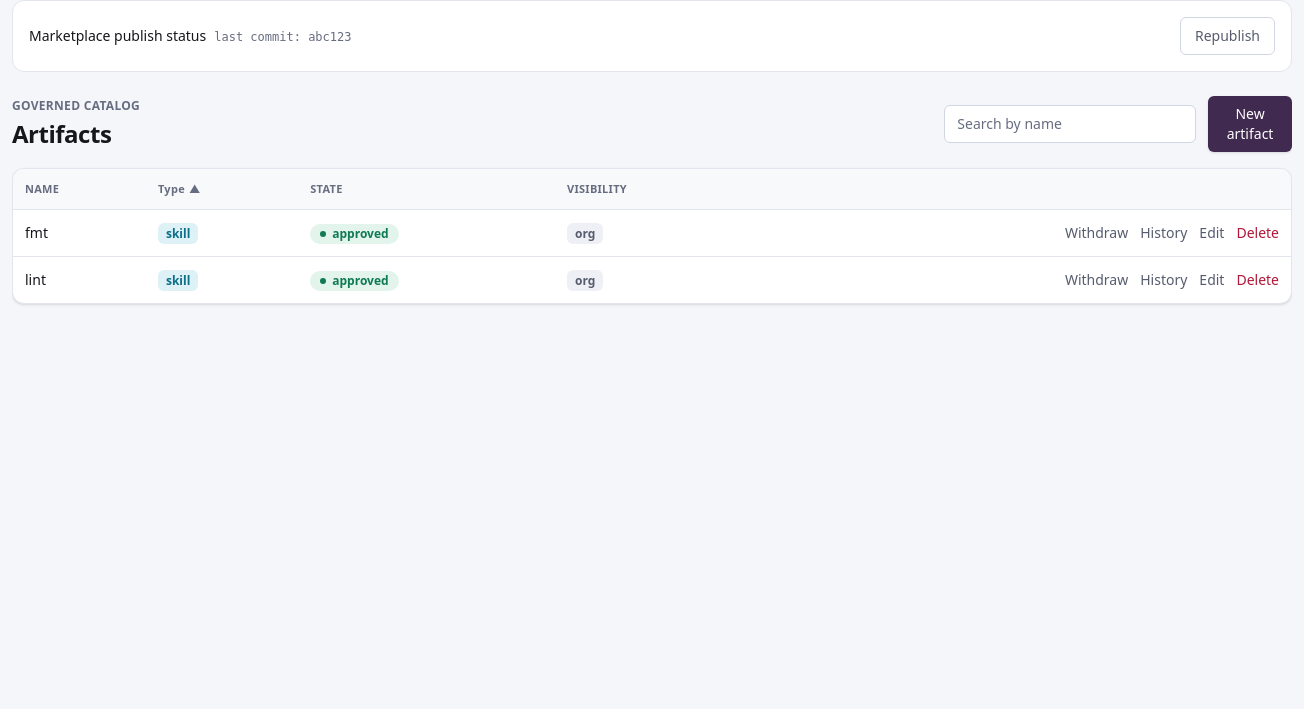
Test: edit: reopening artifact A after viewing B always re-fetches — never shows a stale cached value
Expected: the text "fmt" is shown, [13,209,146,256]
Click the button "edit " in the row of "fmt".
click(1212, 233)  # box [1199,223,1224,243]
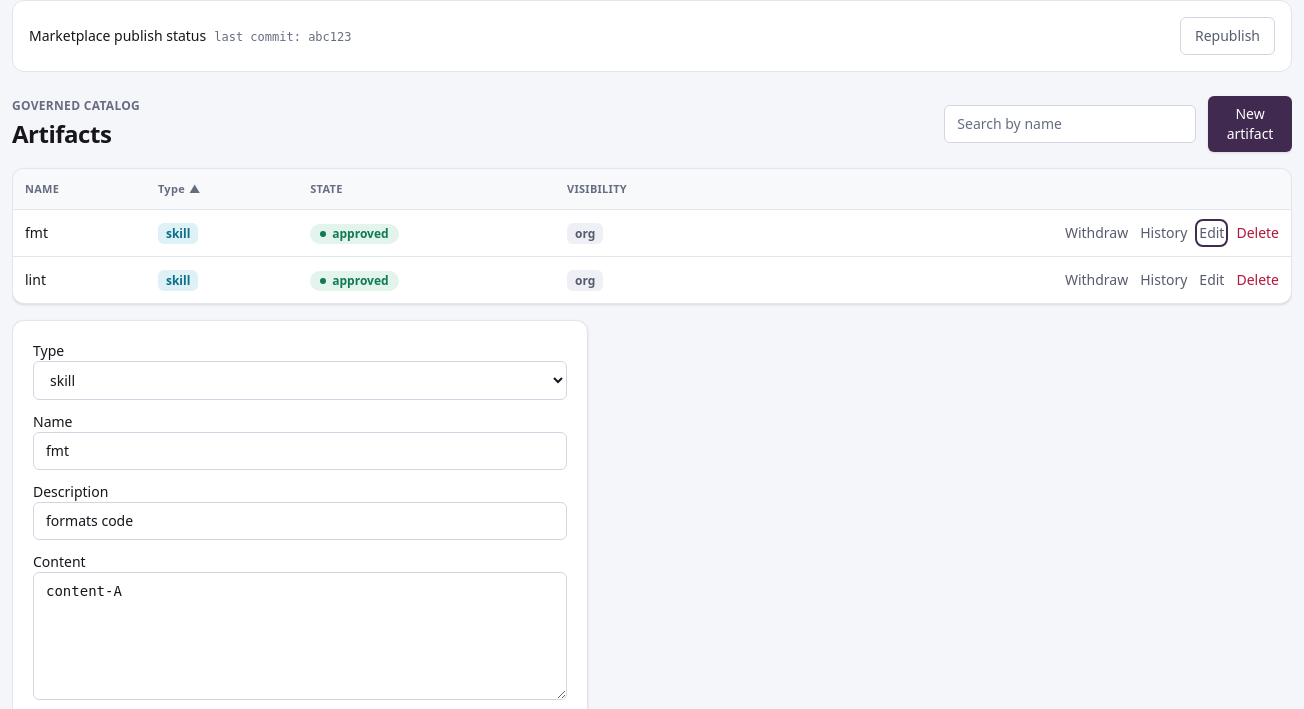
Expected: the text box labelled "Content" holds "content-A", [33,572,567,700]
Click the button "edit " in the row of "lint".
click(1212, 280)  # box [1199,270,1224,290]
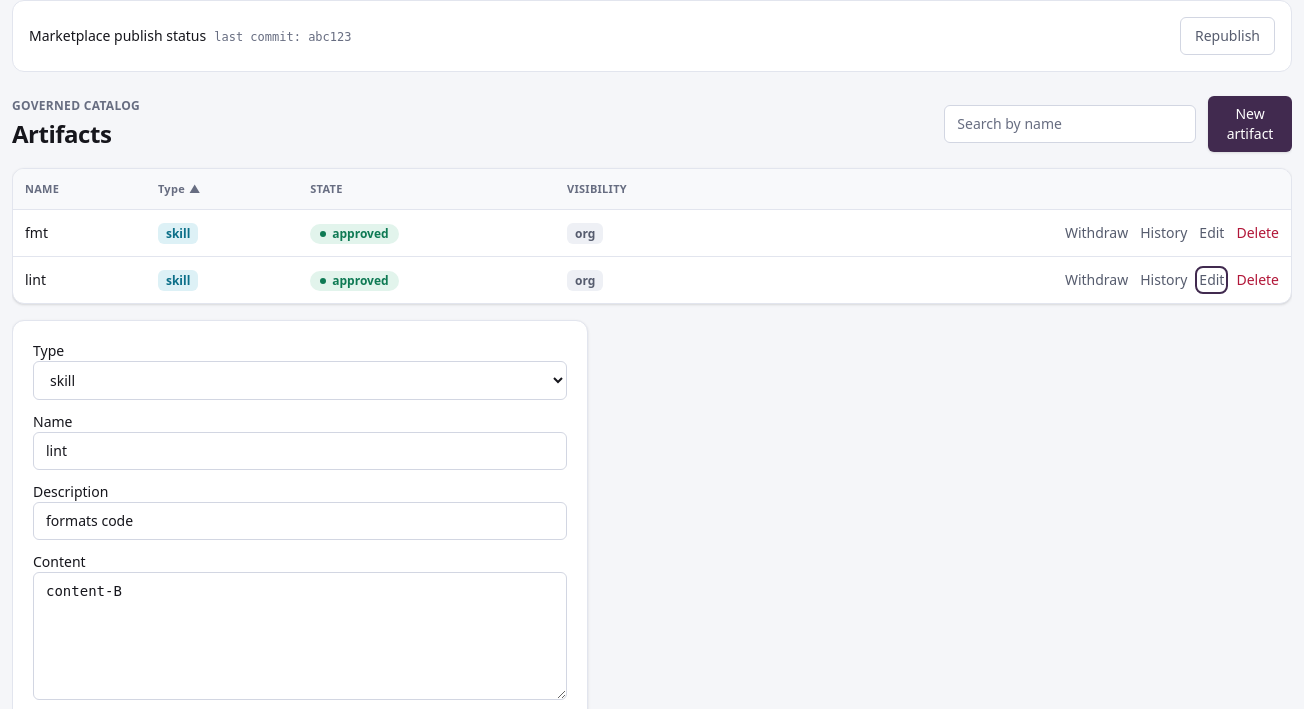
Expected: the text box showing "content-B" is shown, [33,572,567,700]
Click the button "edit " in the row of "fmt".
click(1212, 233)  # box [1199,223,1224,243]
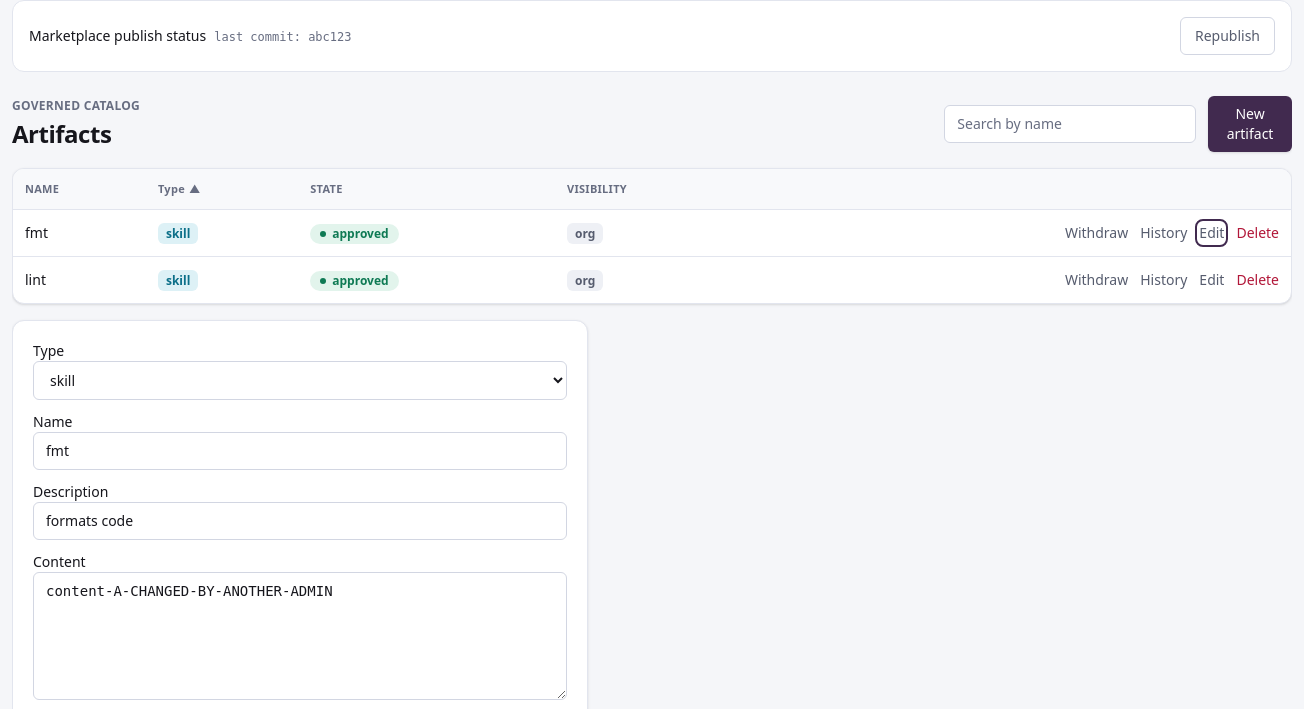
Expected: the text box showing "content-A-CHANGED-BY-ANOTHER-ADMIN" is shown, [33,572,567,700]
